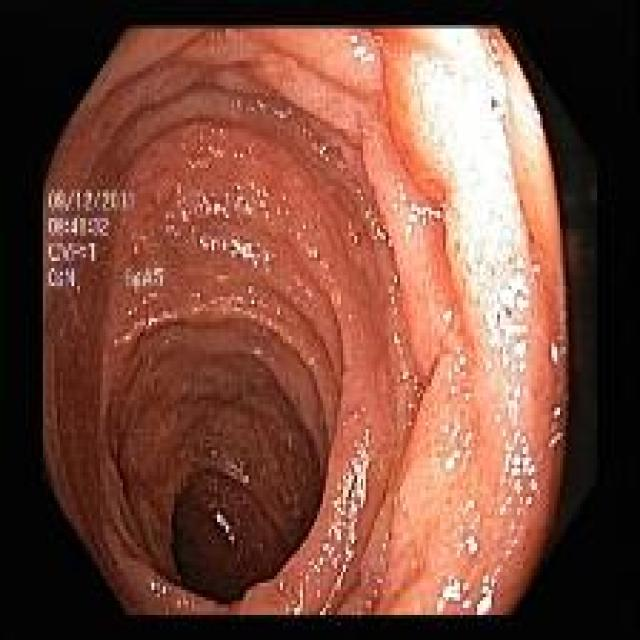ulcerative-colitis: (45, 30, 570, 614)
